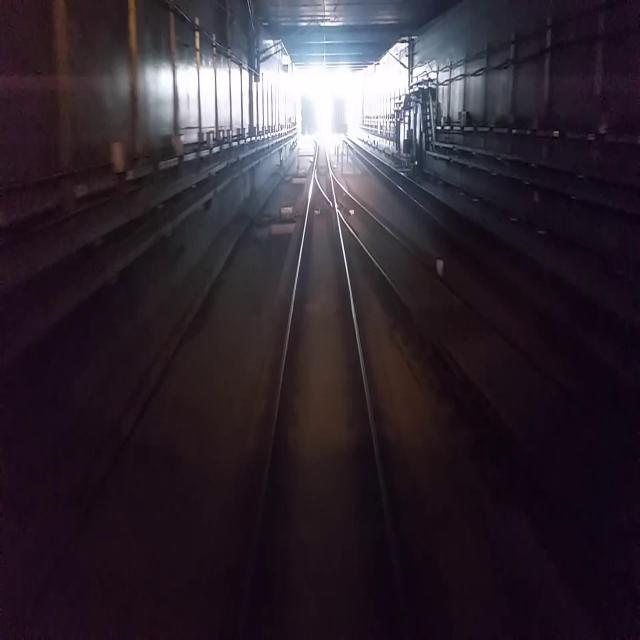rail-track: (330, 170, 640, 614), (243, 139, 405, 639), (339, 135, 640, 389)
